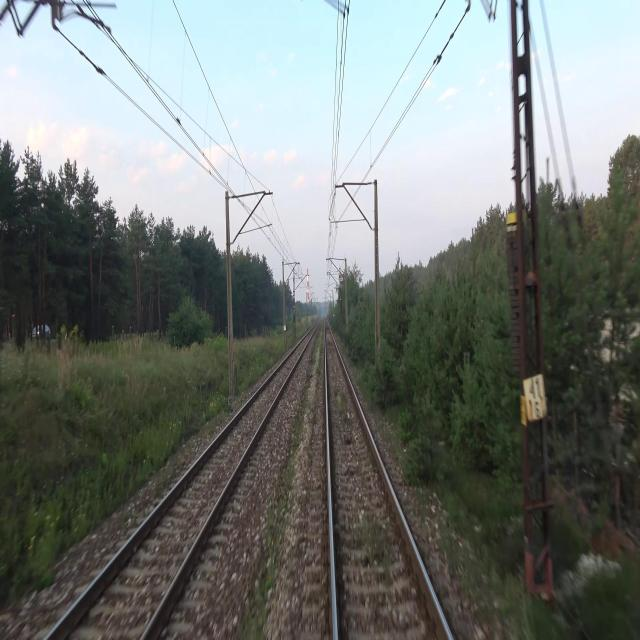rail-track: (49, 329, 313, 639), (326, 322, 449, 639)
